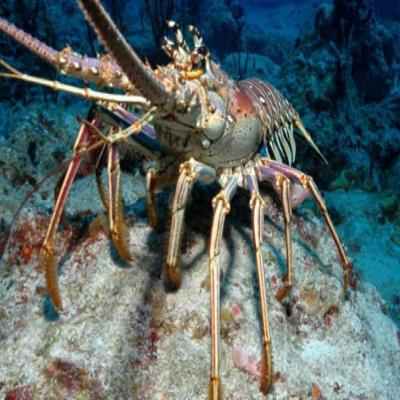lobster: (123, 22, 292, 257)
